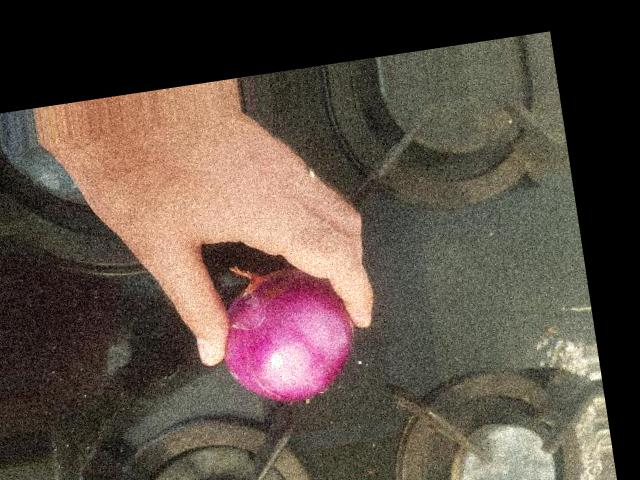onion: (218, 272, 358, 399)
